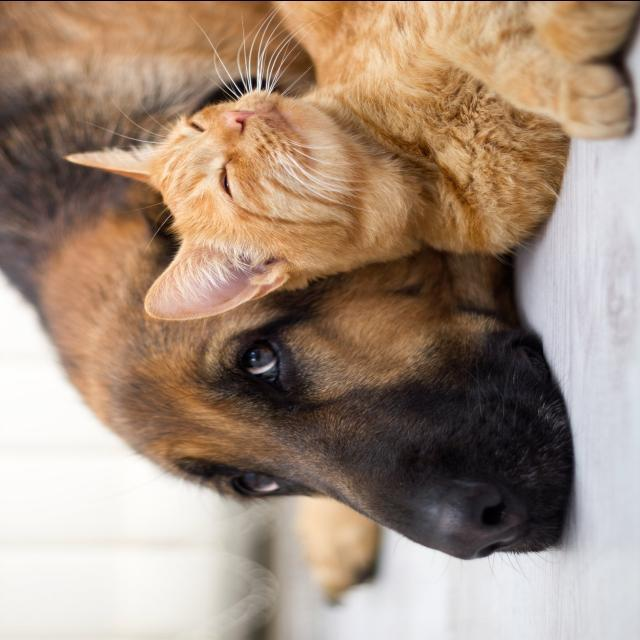Dogs: (0, 0, 575, 608)
